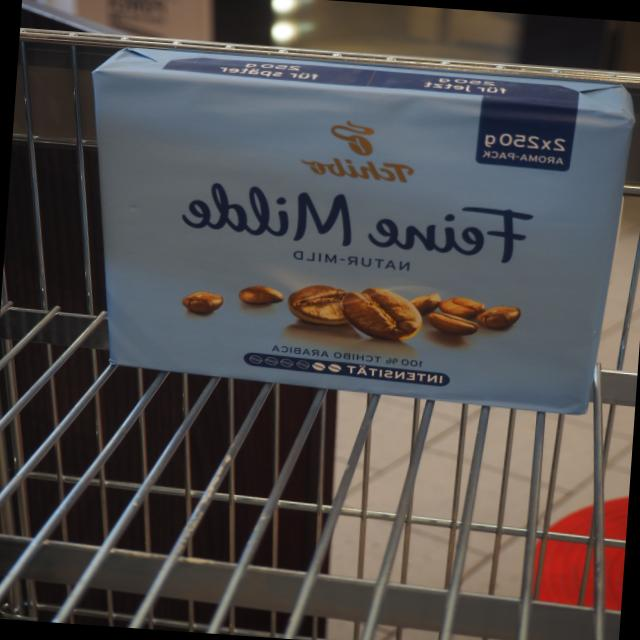FM Gemahlen: (88, 36, 640, 422)
